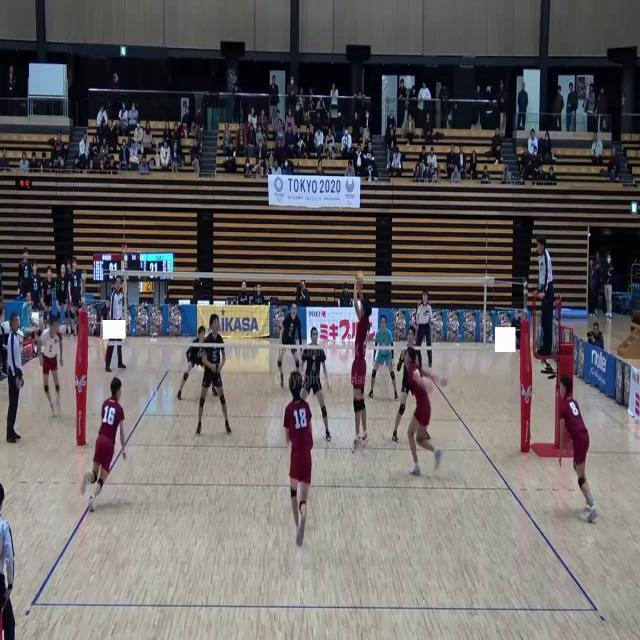volleyball: (355, 271, 364, 285)
